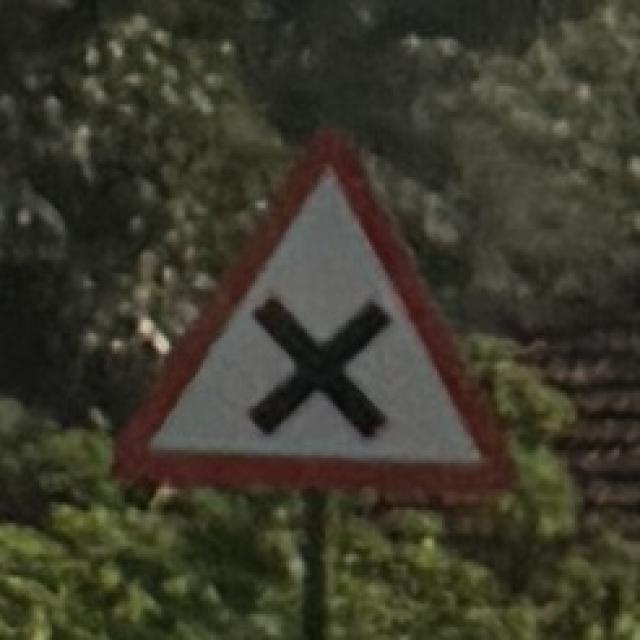CROSS_ROAD: (100, 114, 532, 504)
